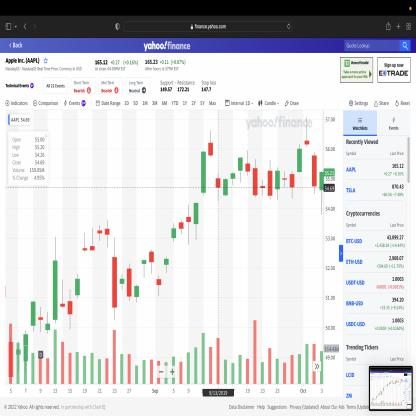Bearish Abandoned Baby: (296, 114, 318, 196)
